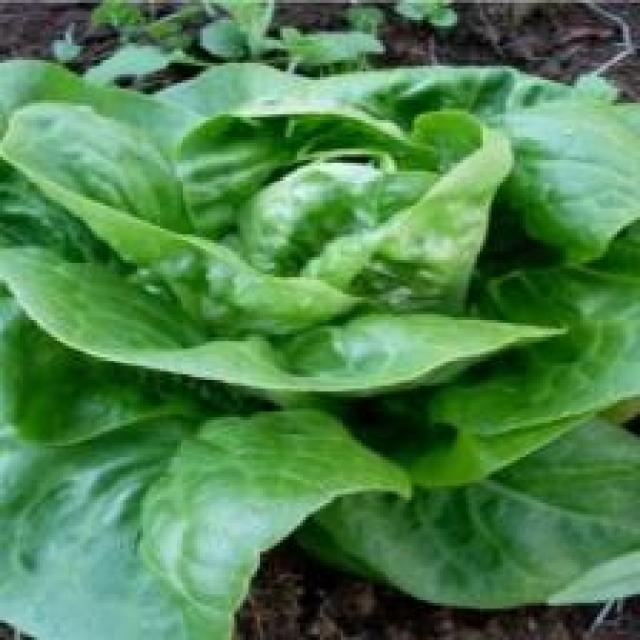Lettuce: (0, 57, 639, 612)
